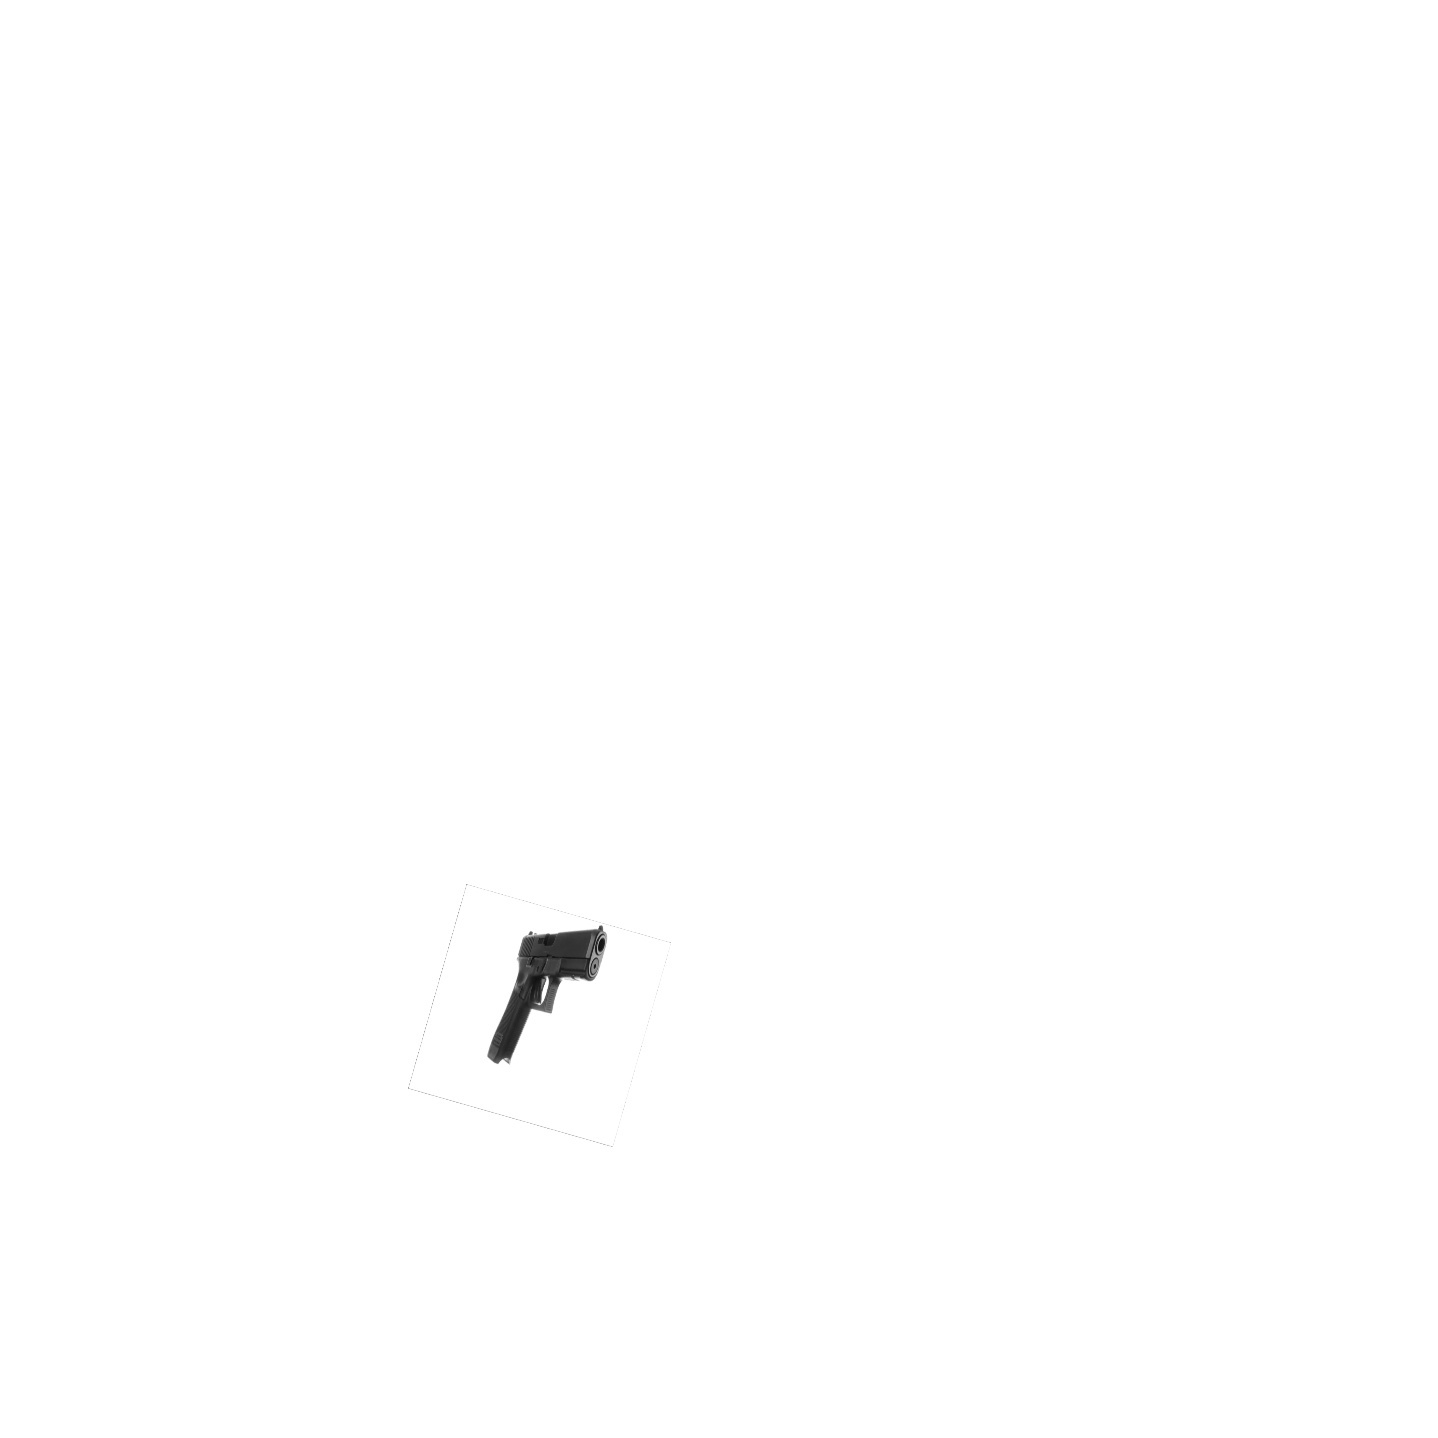gun: (481, 923, 614, 1064)
